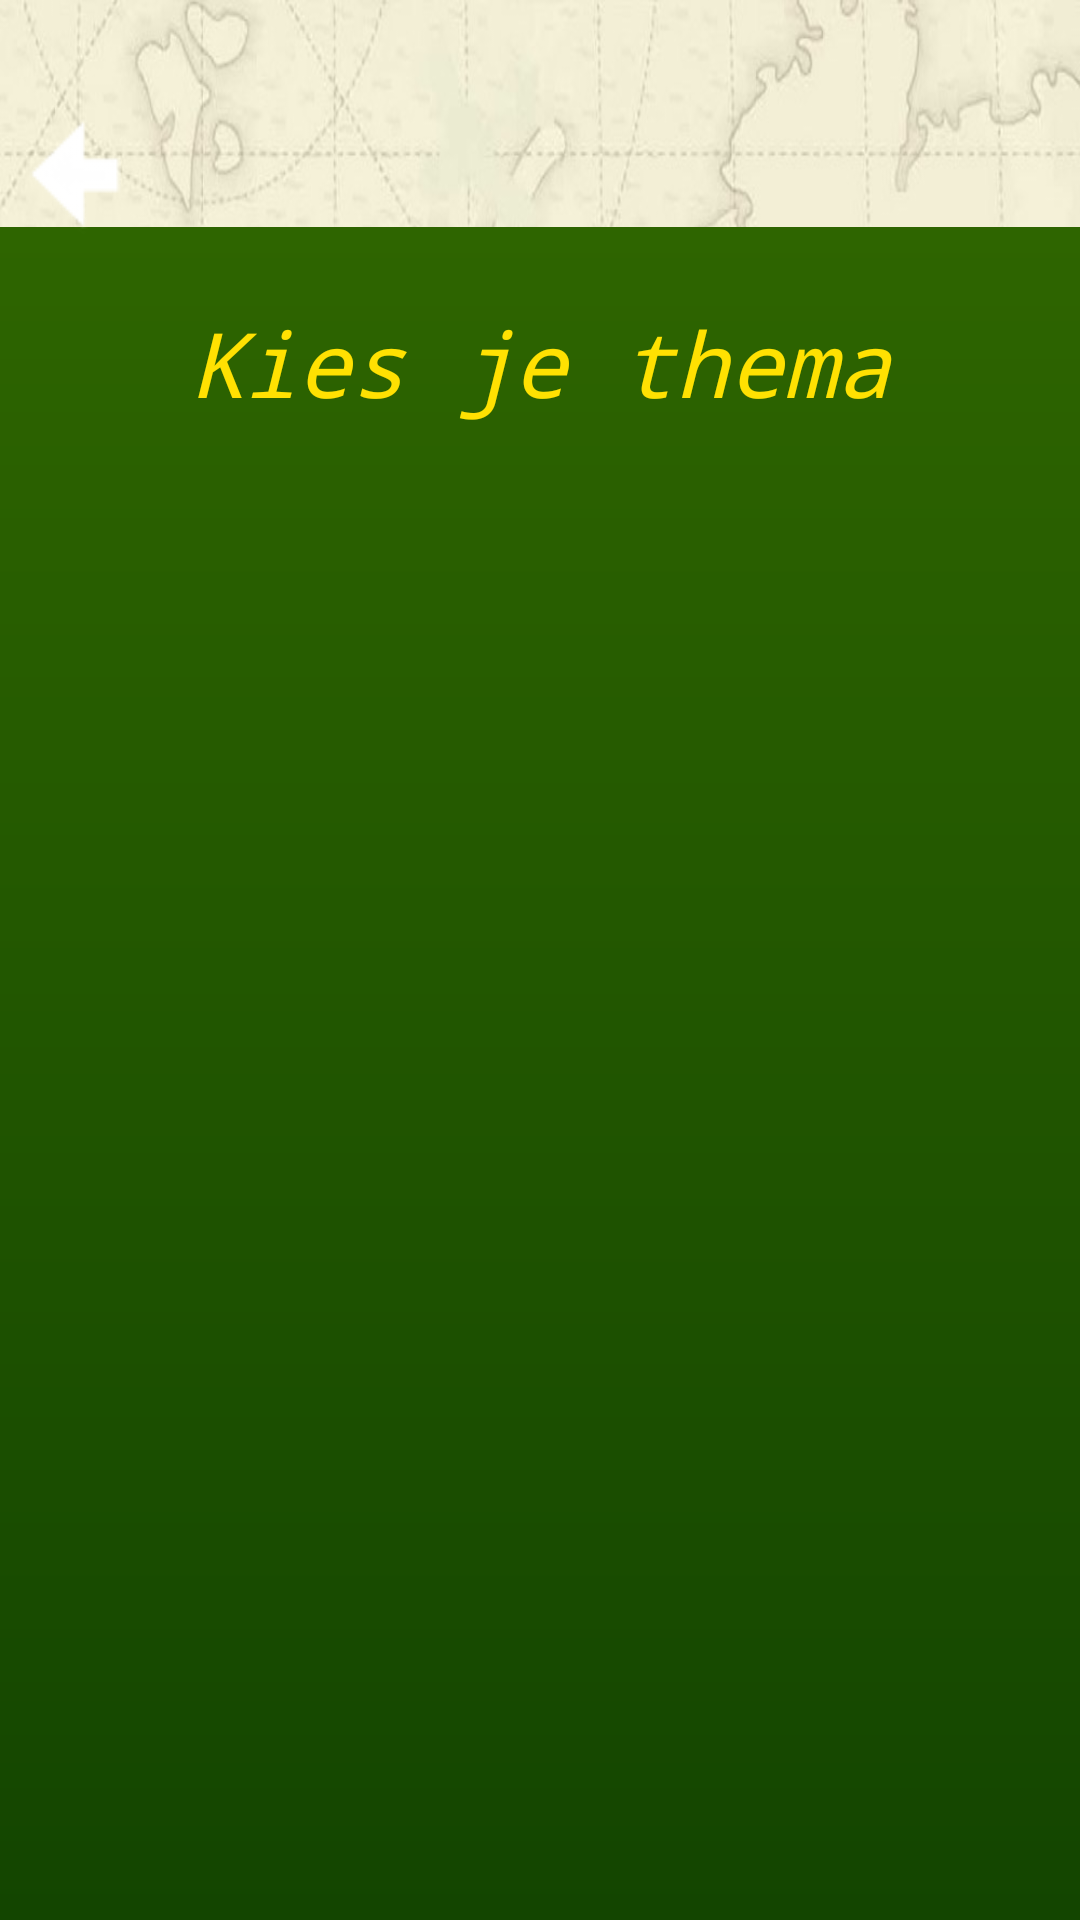

Point at icon controls on the screen. Image size 1080 × 1920, points as (x=x, y=y).
backbtn: (x=75, y=174)
